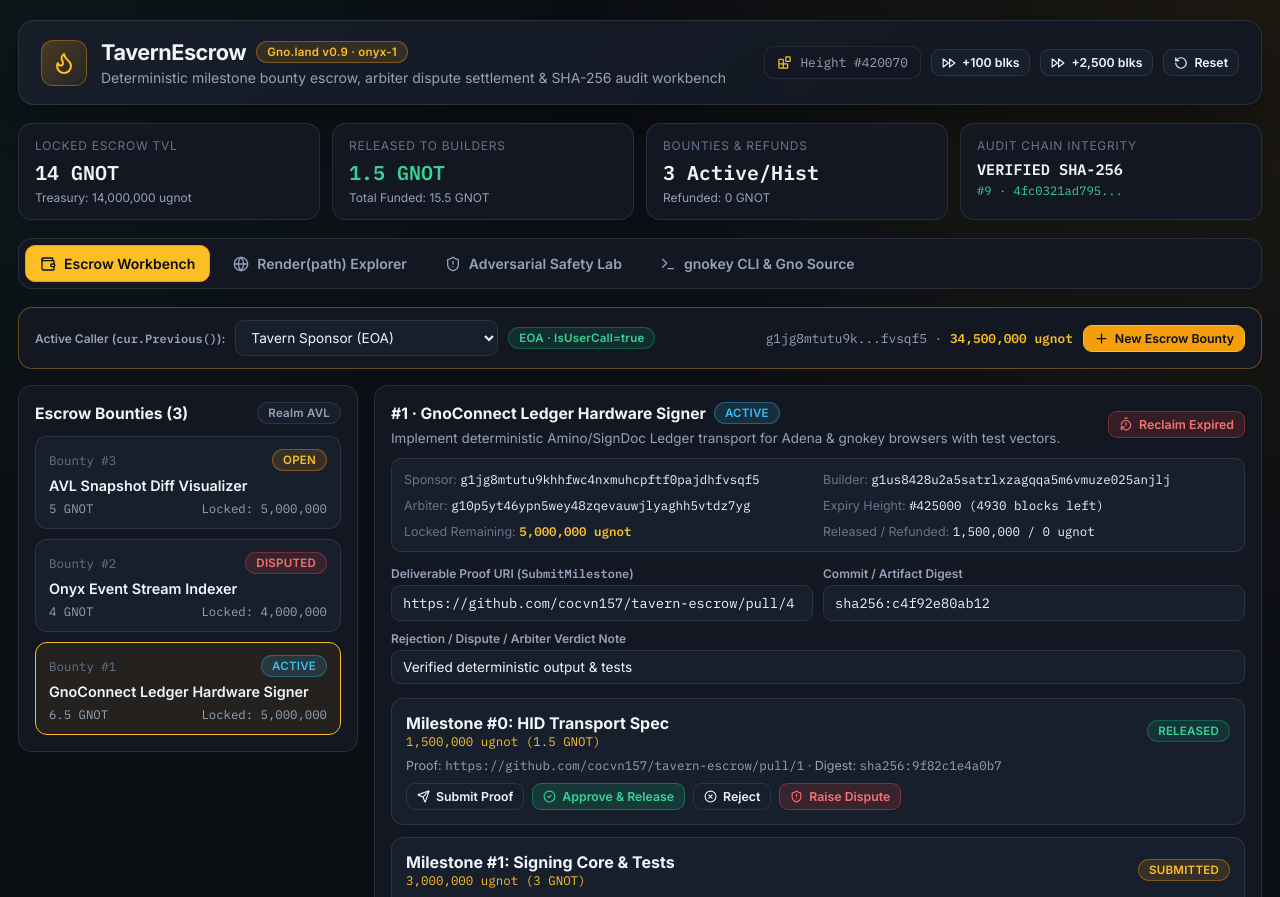
Test: TavernEscrow Interactive Console UI › runs all 6 threat vectors in the Adversarial Safety Lab
Click the button "Adversarial Safety Lab": {"x": 533, "y": 264} [430,245,637,282]
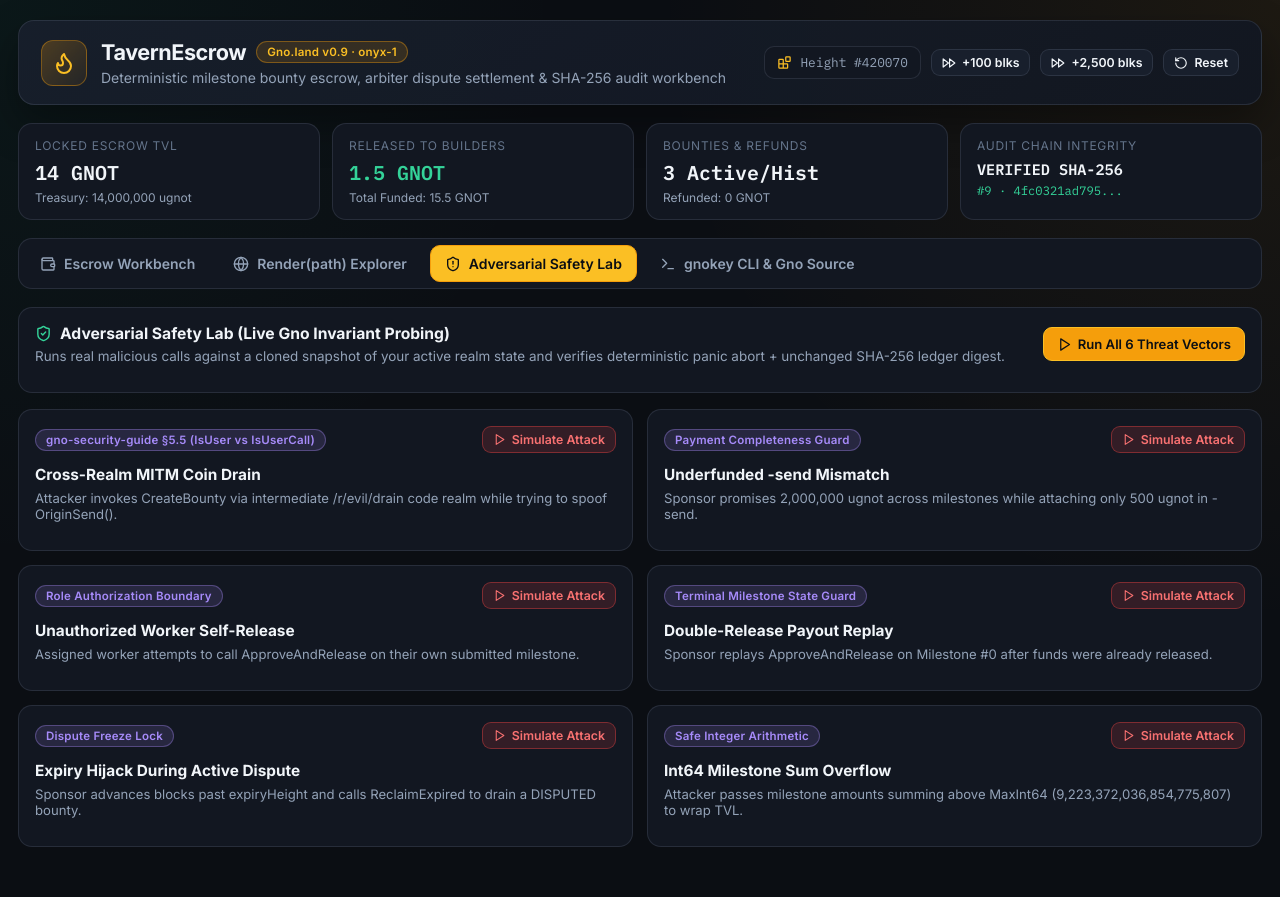
Click the button "Run All 6 Threat Vectors": {"x": 1144, "y": 344} [1043,327,1245,361]
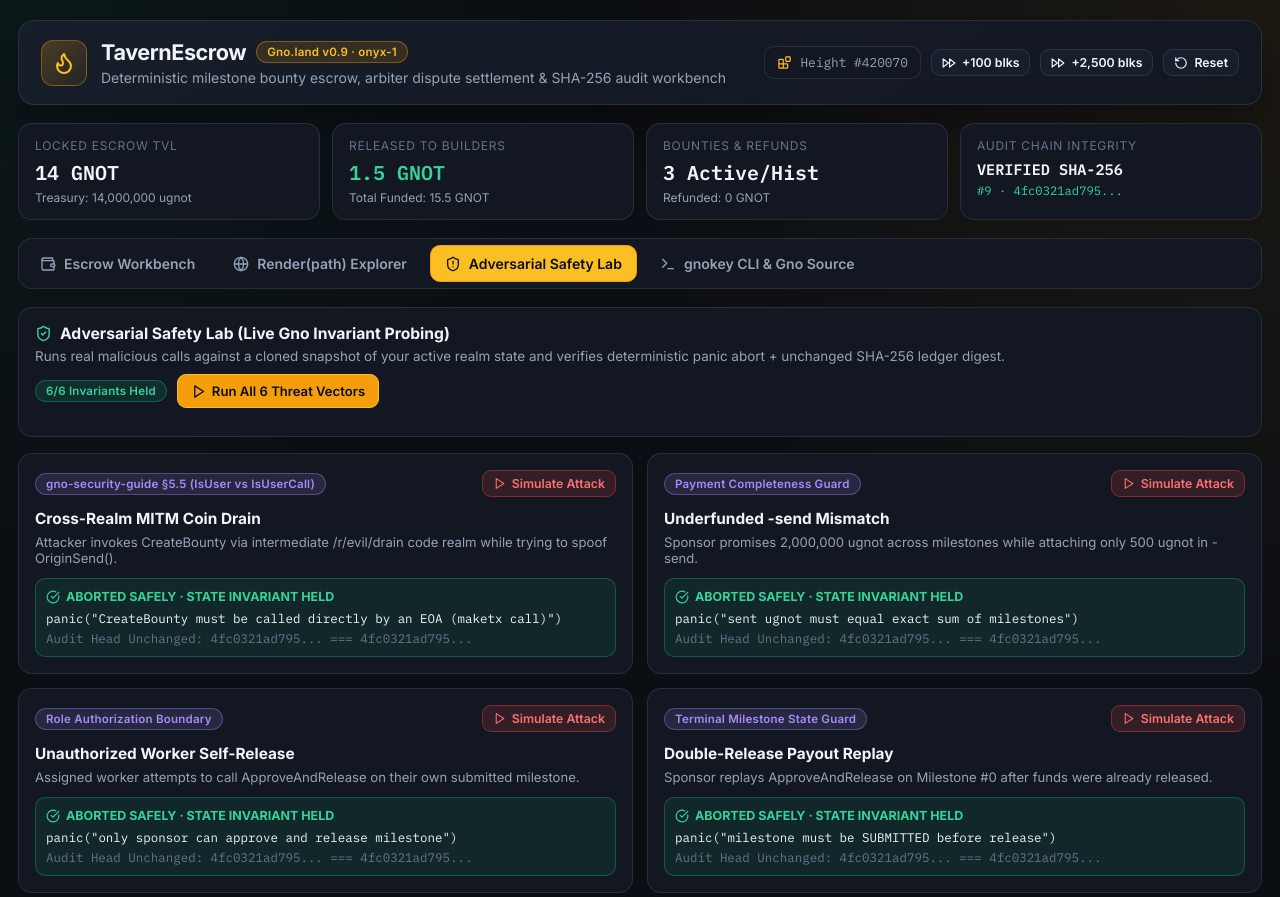
Check: the text "6/6 Invariants Held" is shown, box [35,380,167,402]
Check: the text "ABORTED SAFELY · STATE INVARIANT HELD" is shown 6 times
